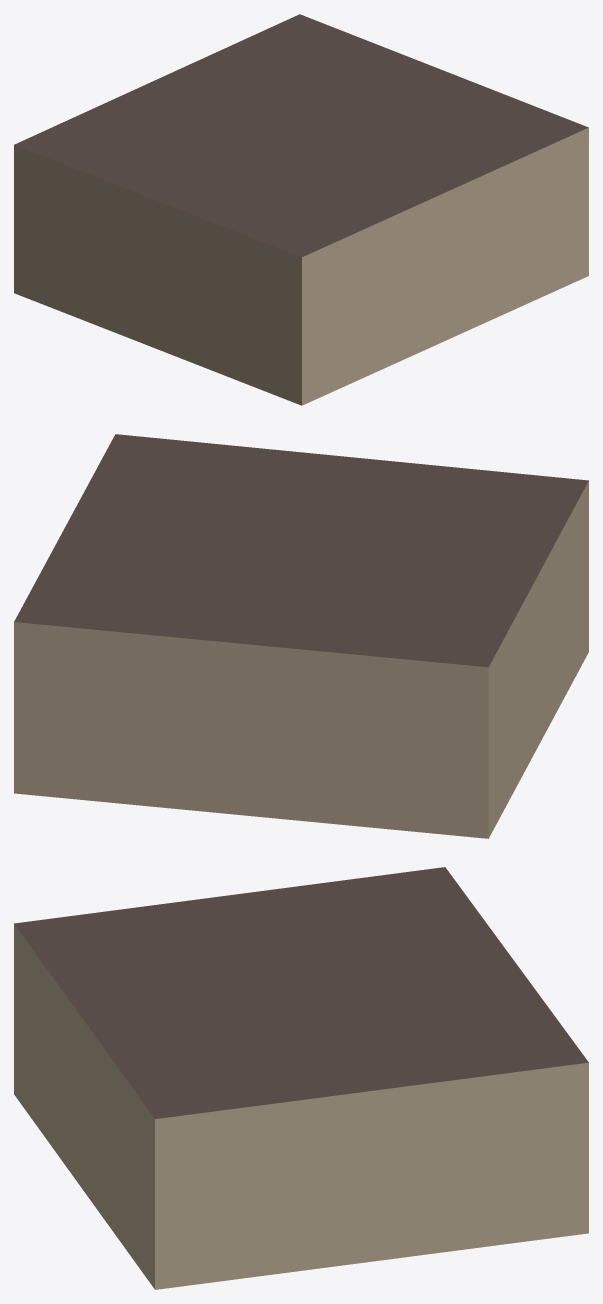
3 renders of one model, top to bottom at view 1: azimuth 30°, elevation 25°; view 2: azimuth 150°, elevation 25°; view 3: azimuth 270°, elevation 25°, orthographic. The views are drawn at different scales.
Parts seen in each view (by area): view 1: HP-w505646889; view 2: HP-w505646889; view 3: HP-w505646889.
Part boxes in pixels (x1=…): HP-w505646889: x1=14, y1=14, x2=588, y2=405; HP-w505646889: x1=14, y1=434, x2=588, y2=838; HP-w505646889: x1=14, y1=867, x2=588, y2=1289.
Bounding box in the file's own units: 28.5 × 9 × 27.46.
